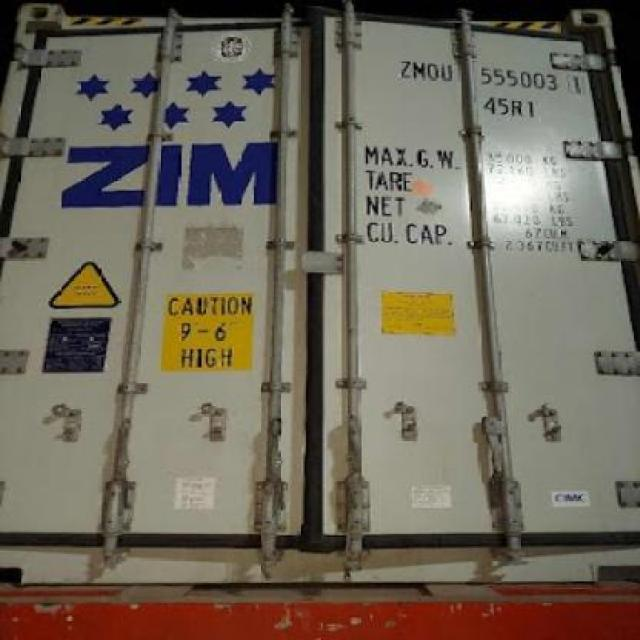ISO: (483, 92, 537, 119)
container_number: (402, 62, 580, 93)
